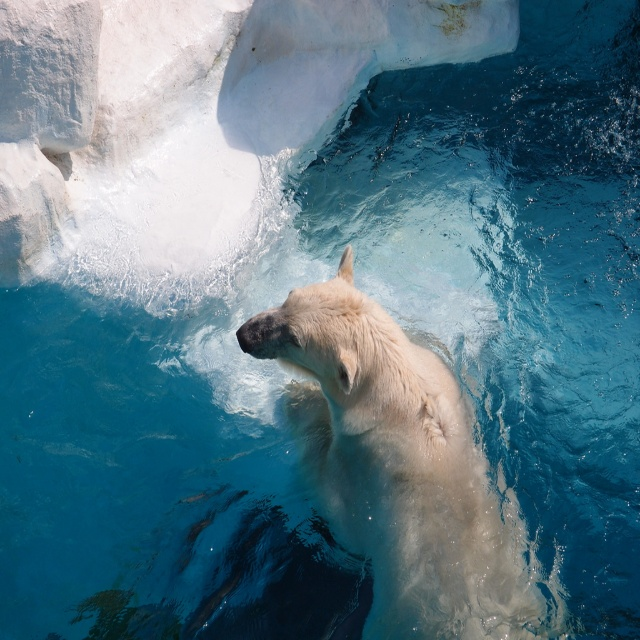Polar bear: (233, 244, 566, 639)
